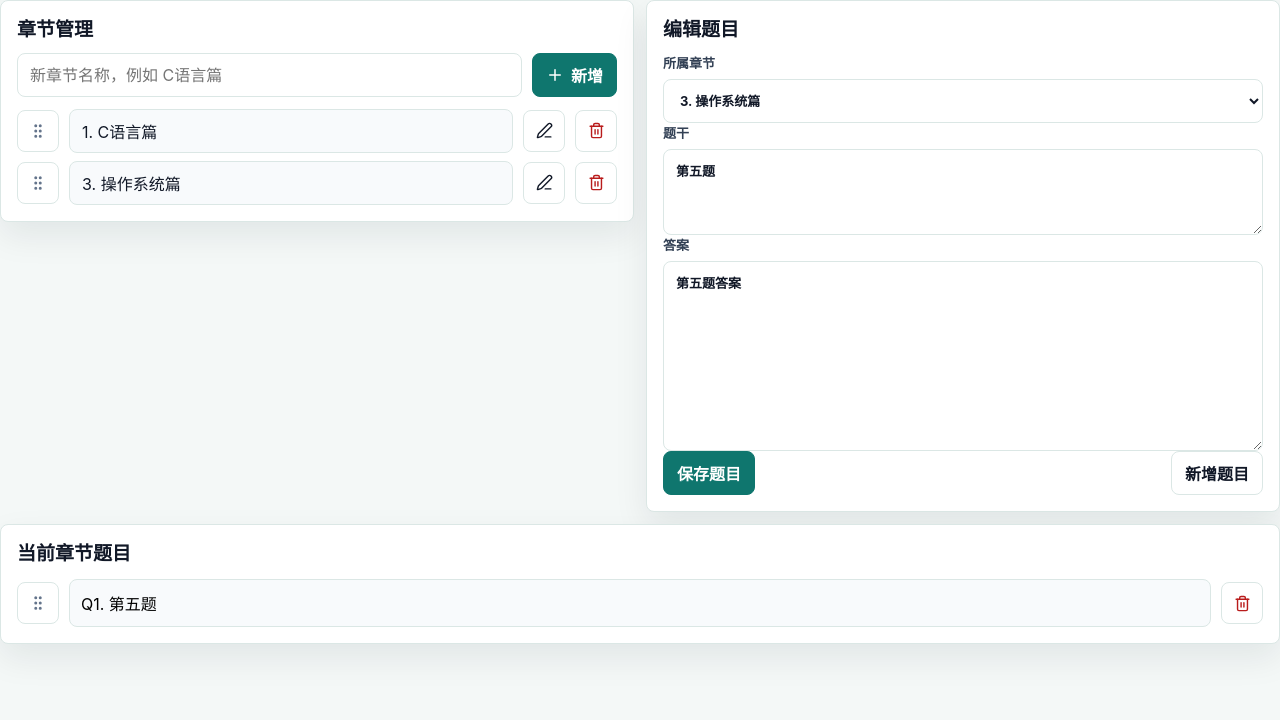
Test: ManageView › edits the current quiz question until the user starts a new question
The width and height of the screenshot is (1280, 720).
Expected: the heading "编辑题目" is shown, [663,18,739,41]
Expected: the text box showing "第五题" is shown, [663,149,1263,235]
Click the button "新增题目" at (1217, 473), box [1171,451,1263,495]
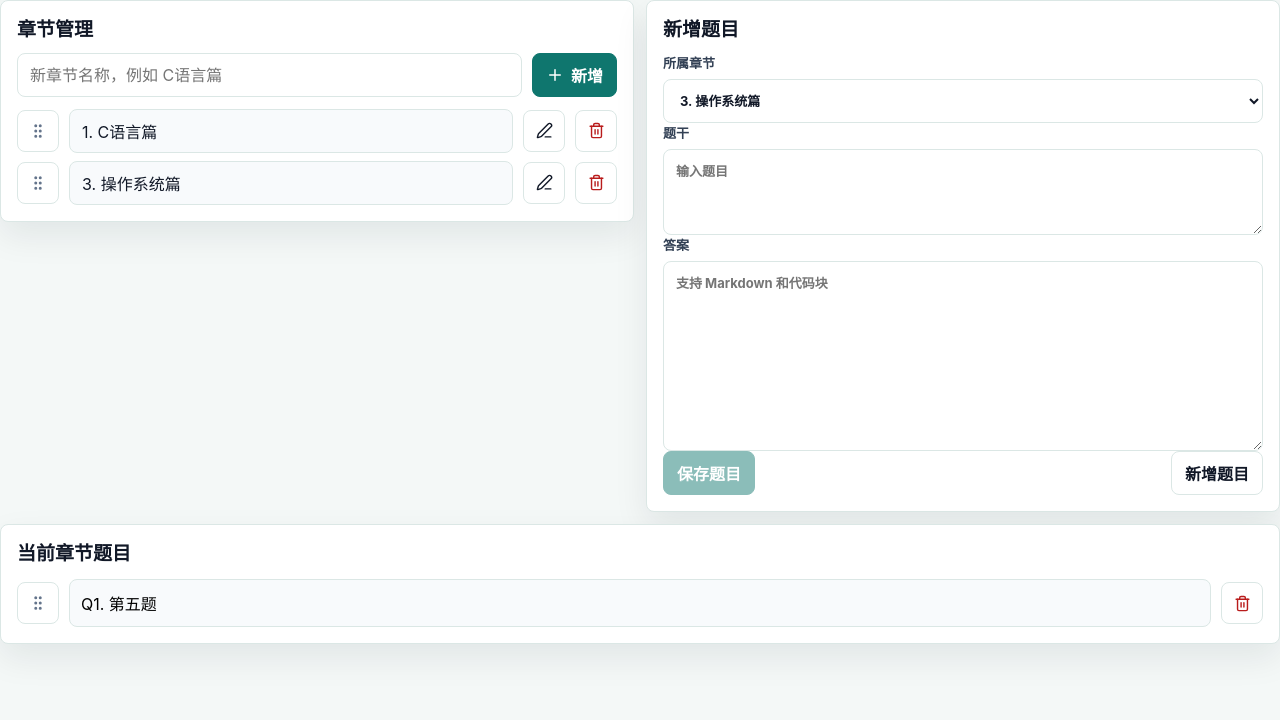
Result: the heading "新增题目" is shown at [663,18,739,41]
Result: the text box with placeholder "输入题目" is empty at [663,149,1263,235]
Result: the text box with placeholder "支持 Markdown 和代码块" is empty at [663,261,1263,451]
